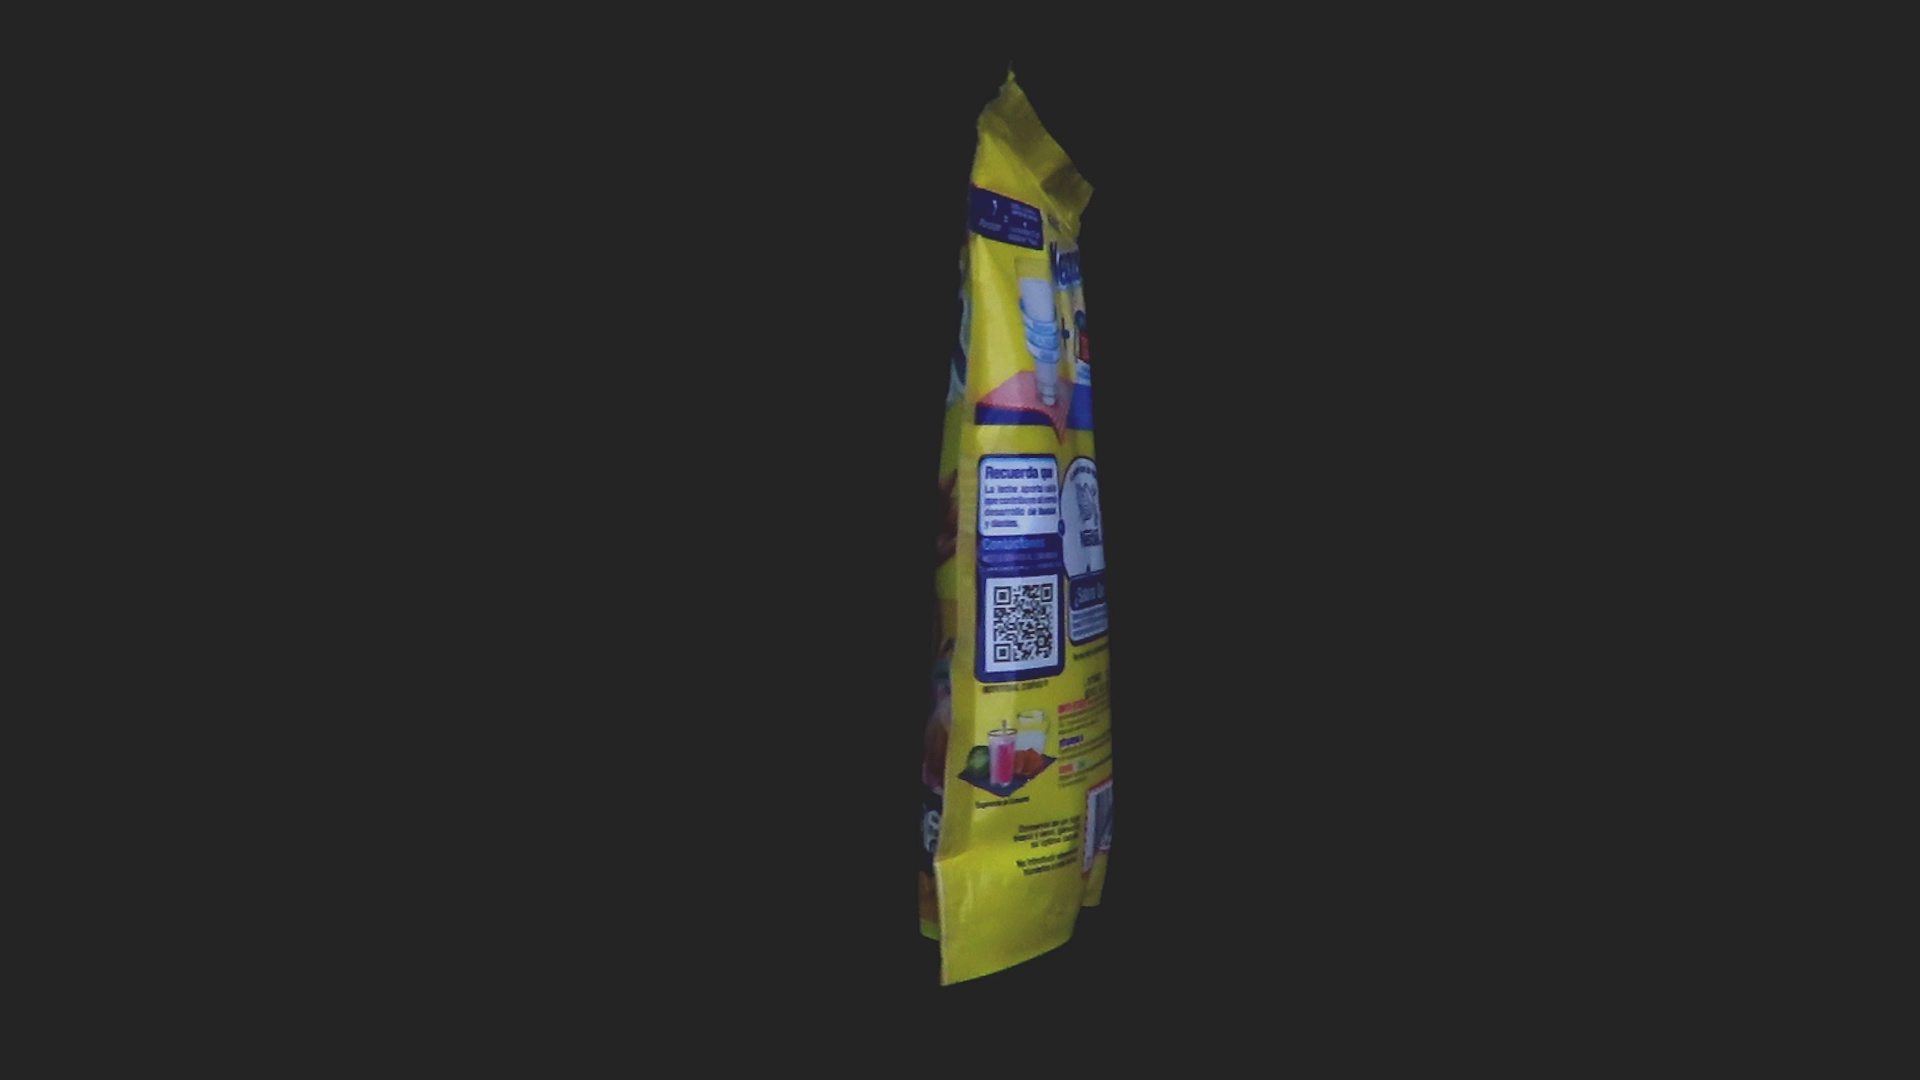COL0170305DYP20000: (913, 65, 1117, 992)
